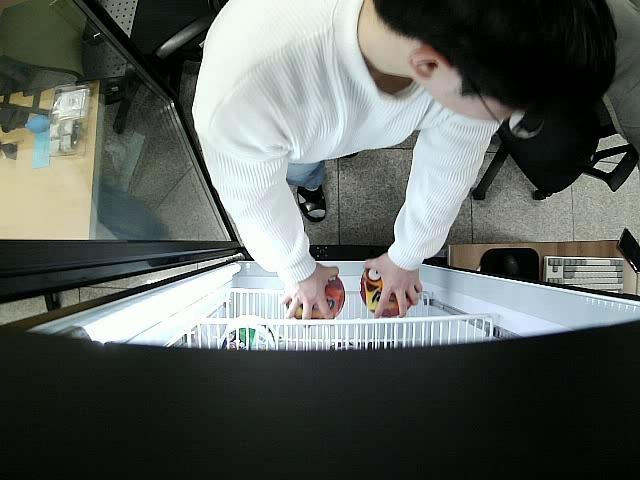05_nuguri_L: (283, 272, 345, 322), (357, 269, 415, 320)
